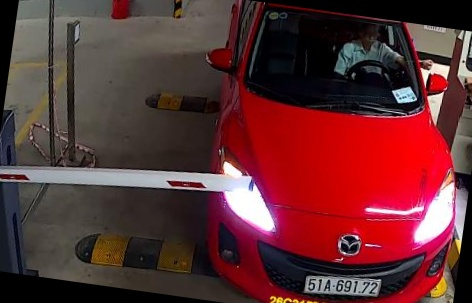plate: (299, 272, 386, 301)
